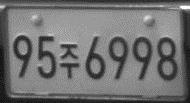5: (36, 35, 56, 79)
6: (84, 34, 107, 80)
8: (155, 35, 179, 83)
9: (131, 34, 154, 82), (11, 33, 33, 79), (108, 34, 129, 80)
주: (57, 42, 81, 81)
